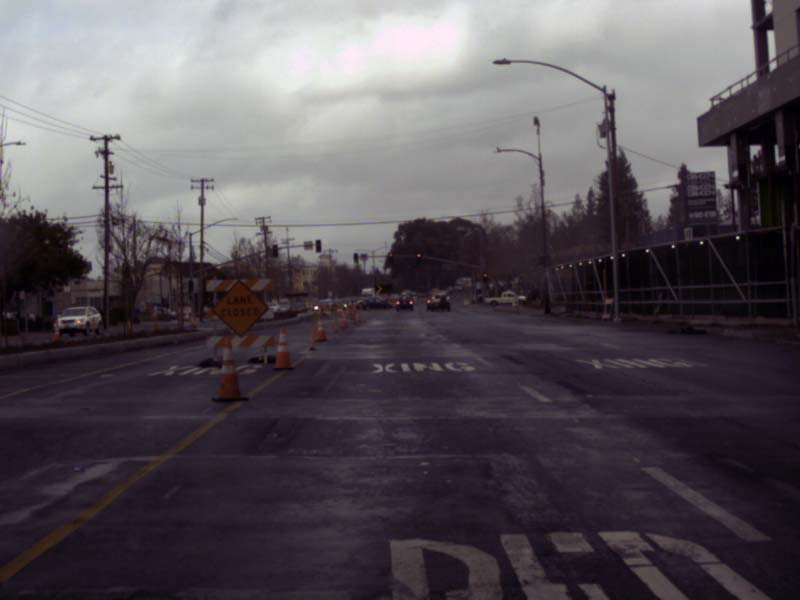Red: (388, 253, 392, 262), (416, 253, 420, 262), (483, 273, 487, 282), (354, 253, 357, 262)
